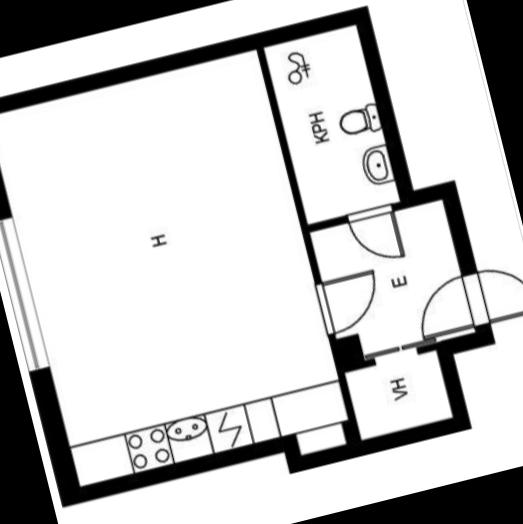door: (310, 266, 391, 339), (409, 271, 490, 342), (340, 200, 408, 274), (460, 255, 523, 329)
window: (0, 210, 54, 377)
